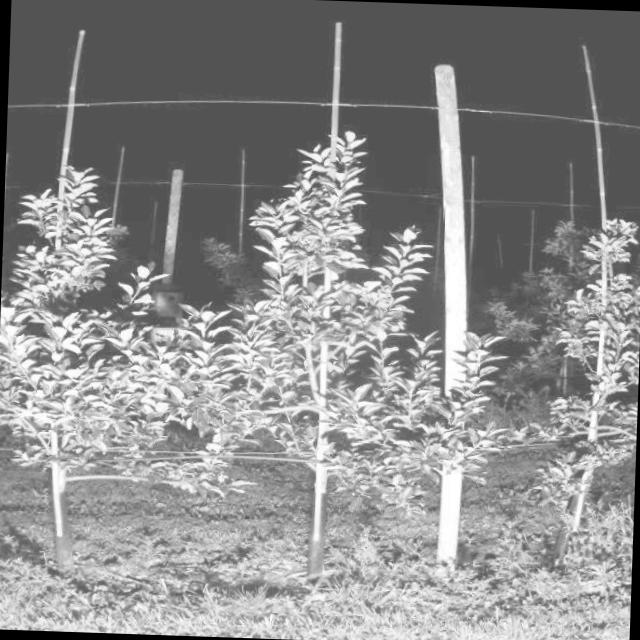Tree: (224, 133, 433, 588), (0, 161, 163, 580), (510, 213, 640, 544)
